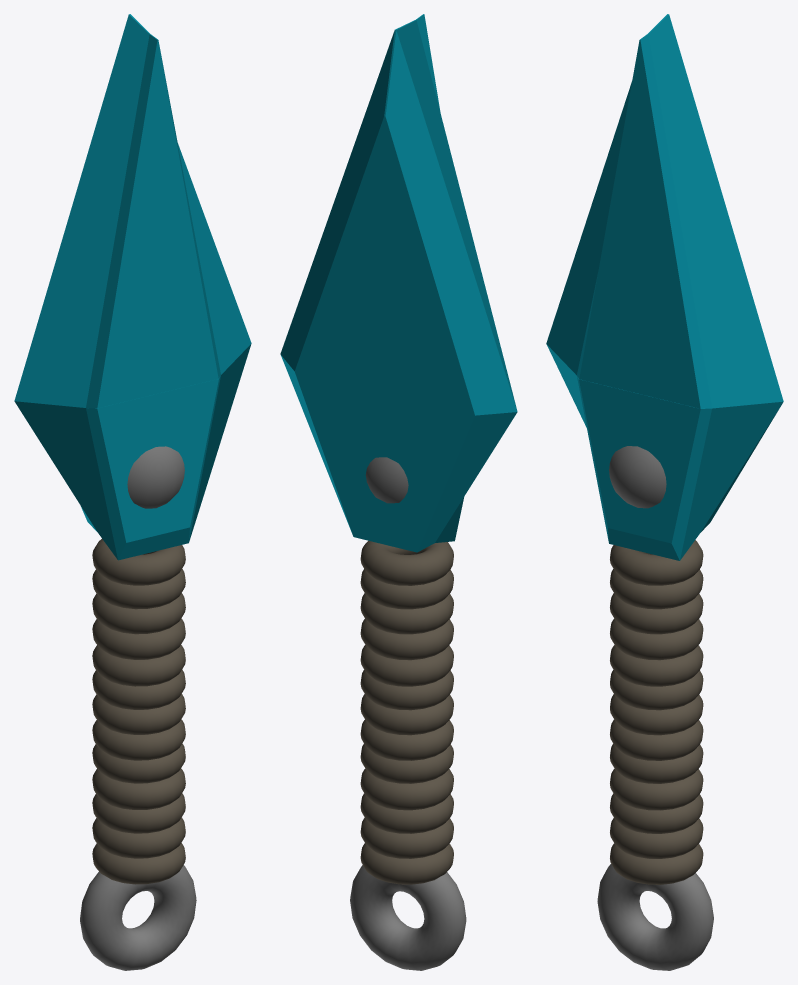
Rendered from Kunai.fbx.
3 renders of one model, left to right at view 1: azimuth 30°, elevation 25°; view 2: azimuth 150°, elevation 25°; view 3: azimuth 330°, elevation 25°, orthographic.
Parts seen in each view (by area): view 1: Kunai; view 2: Kunai; view 3: Kunai.
Part boxes in pixels (x1,y1,x2,y2): Kunai: (14, 14, 251, 970); Kunai: (280, 14, 517, 970); Kunai: (546, 14, 783, 970).
Bounding box in the file's own units: 3.35 × 12.76 × 1.21.
